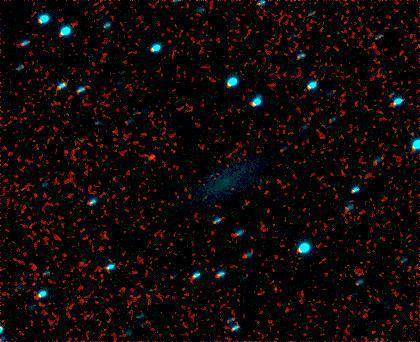star: (137, 142, 167, 172)
